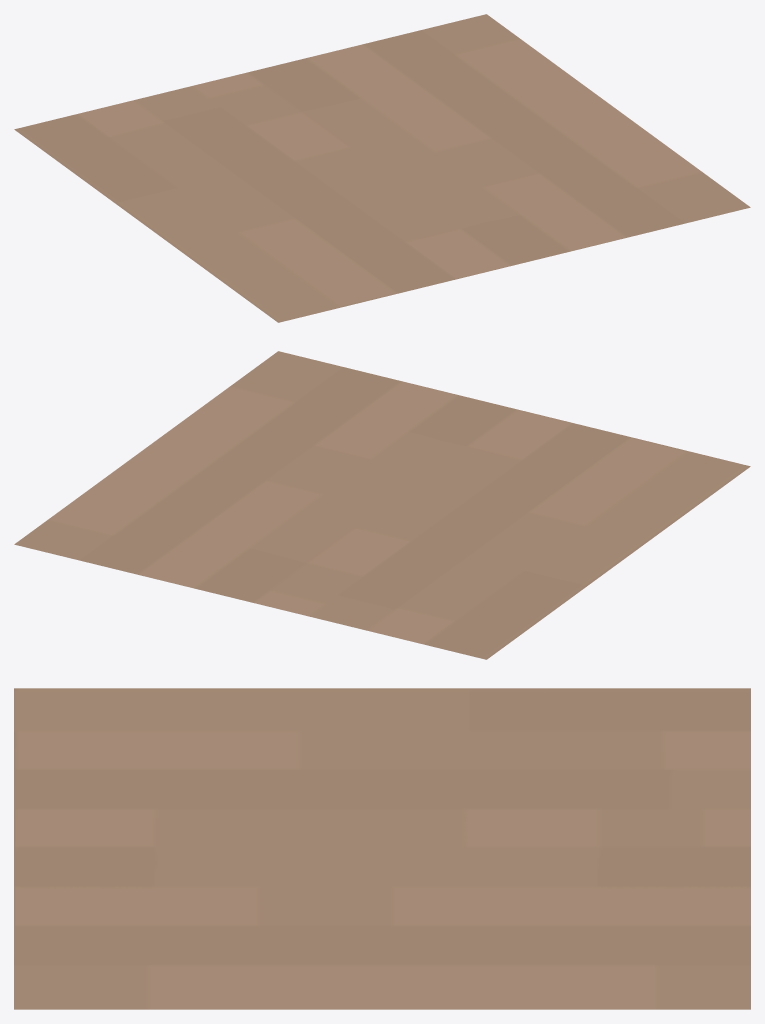
File: office_pack_demoRoom_floor_side_right.fbx
3 renders of one model, top to bottom at view 1: azimuth 30°, elevation 25°; view 2: azimuth 150°, elevation 25°; view 3: azimuth 270°, elevation 25°, orthographic. The views are drawn at different scales.
Visible parts, largest first — view 1: office_pack_demoRoom_floor_side_right; view 2: office_pack_demoRoom_floor_side_right; view 3: office_pack_demoRoom_floor_side_right.
Boxes of the visible parts, x1,y1,x2,y2 form: office_pack_demoRoom_floor_side_right: [14, 14, 750, 322]; office_pack_demoRoom_floor_side_right: [14, 351, 750, 659]; office_pack_demoRoom_floor_side_right: [14, 688, 750, 1009].
Size of the model in its own units: 103 by 3.48e-05 by 100.
